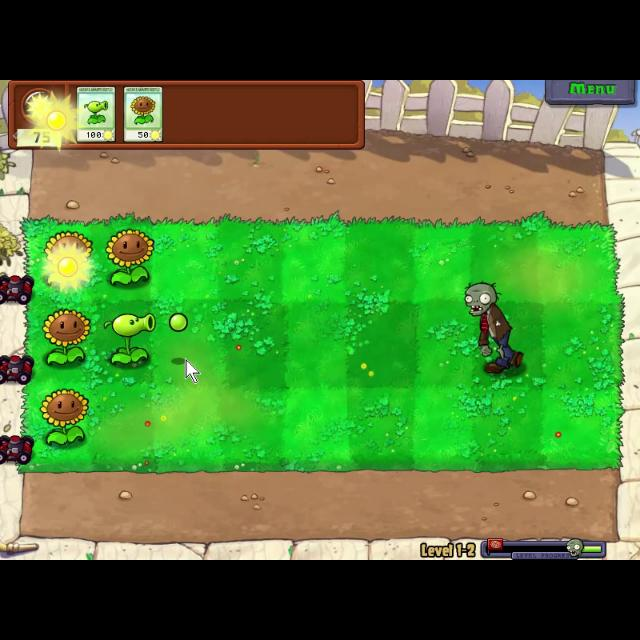Garden: (17, 212, 625, 476)
Menu Button: (544, 80, 638, 104)
Mower: (0, 265, 38, 309), (0, 349, 38, 388), (0, 432, 34, 468)
Peashooter: (75, 83, 117, 145)
Peashooter Seed: (103, 310, 159, 368)
Seed Panel: (5, 80, 369, 152)
Sun: (25, 88, 89, 154), (42, 242, 94, 294)
Sunflower: (120, 84, 163, 146)
Sunflower Seed: (36, 386, 92, 452), (40, 309, 92, 367), (106, 228, 156, 284), (40, 228, 100, 266)
Zombie: (460, 279, 526, 373)
